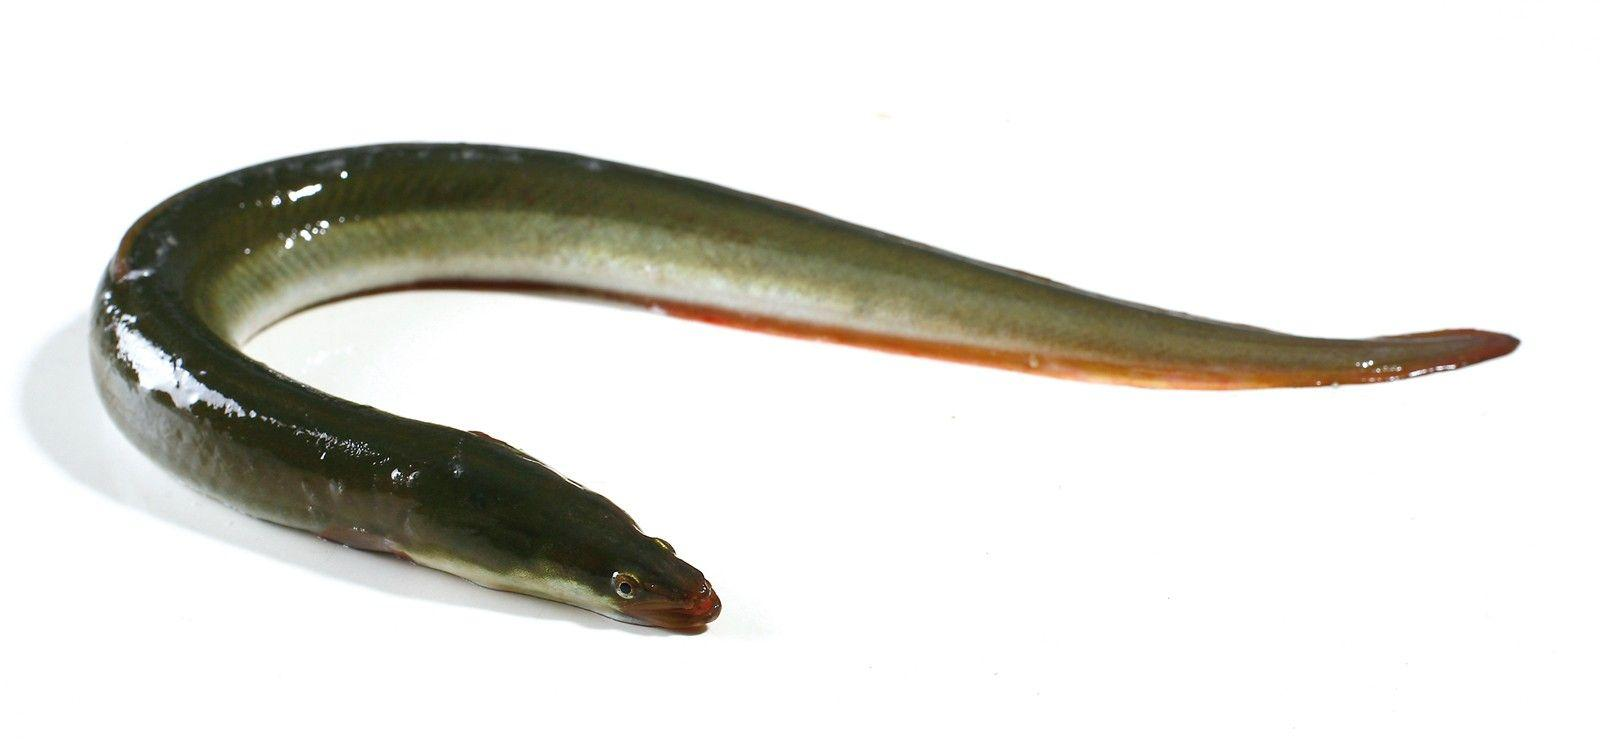Freshwater Eel: (87, 134, 1524, 646)
